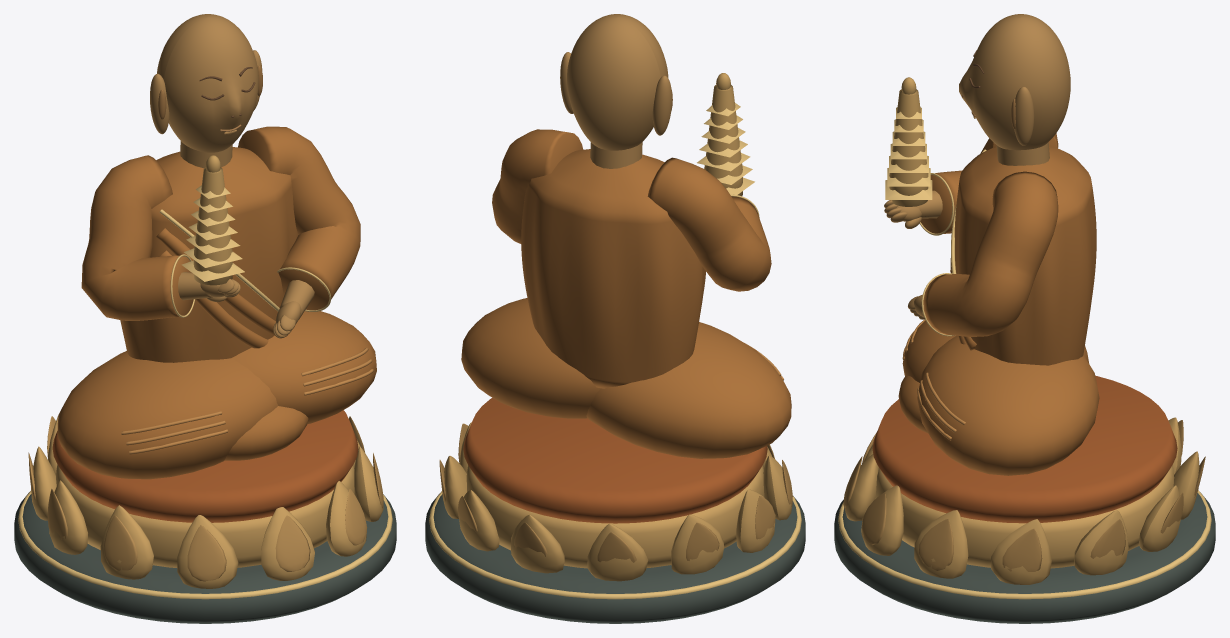
File: arhat_11.glb
3 views of the same model, side by side, from view 1: azimuth 30°, elevation 25°; view 2: azimuth 150°, elevation 25°; view 3: azimuth 270°, elevation 25° (orthographic).
Visible parts, largest first — view 1: arhat_11_ArhatDrapery, arhat_11_AntiqueGold, arhat_11_CarvedPlinth, arhat_11_SaffronDrapery, arhat_11_WarmBronze, arhat_11_GoldPetalRelief, arhat_11_RaisedGoldBorders, arhat_11_DraperyFoldHighlights; view 2: arhat_11_ArhatDrapery, arhat_11_SaffronDrapery, arhat_11_AntiqueGold, arhat_11_CarvedPlinth, arhat_11_WarmBronze, arhat_11_RaisedGoldBorders, arhat_11_GoldPetalRelief; view 3: arhat_11_ArhatDrapery, arhat_11_SaffronDrapery, arhat_11_AntiqueGold, arhat_11_CarvedPlinth, arhat_11_WarmBronze, arhat_11_GoldPetalRelief, arhat_11_RaisedGoldBorders, arhat_11_DraperyFoldHighlights.
Part boxes in pixels (bbox=[...]): arhat_11_ArhatDrapery: bbox=[57, 126, 376, 479]; arhat_11_AntiqueGold: bbox=[31, 155, 383, 588]; arhat_11_CarvedPlinth: bbox=[14, 492, 396, 623]; arhat_11_SaffronDrapery: bbox=[52, 410, 358, 522]; arhat_11_WarmBronze: bbox=[150, 14, 314, 338]; arhat_11_GoldPetalRelief: bbox=[28, 416, 383, 581]; arhat_11_RaisedGoldBorders: bbox=[18, 185, 392, 599]; arhat_11_DraperyFoldHighlights: bbox=[121, 347, 373, 454]; arhat_11_ArhatDrapery: bbox=[461, 129, 791, 458]; arhat_11_SaffronDrapery: bbox=[463, 398, 767, 523]; arhat_11_AntiqueGold: bbox=[442, 73, 792, 581]; arhat_11_CarvedPlinth: bbox=[425, 493, 805, 623]; arhat_11_WarmBronze: bbox=[560, 14, 671, 168]; arhat_11_RaisedGoldBorders: bbox=[429, 103, 801, 599]; arhat_11_GoldPetalRelief: bbox=[439, 423, 792, 562]; arhat_11_ArhatDrapery: bbox=[898, 133, 1099, 475]; arhat_11_SaffronDrapery: bbox=[872, 375, 1177, 523]; arhat_11_AntiqueGold: bbox=[844, 77, 1199, 584]; arhat_11_CarvedPlinth: bbox=[834, 492, 1215, 623]; arhat_11_WarmBronze: bbox=[884, 14, 1070, 319]; arhat_11_GoldPetalRelief: bbox=[843, 420, 1205, 571]; arhat_11_RaisedGoldBorders: bbox=[838, 107, 1211, 599]; arhat_11_DraperyFoldHighlights: bbox=[902, 319, 965, 440].
Size of the model in its own units: 0.92 by 1.41 by 0.92.
